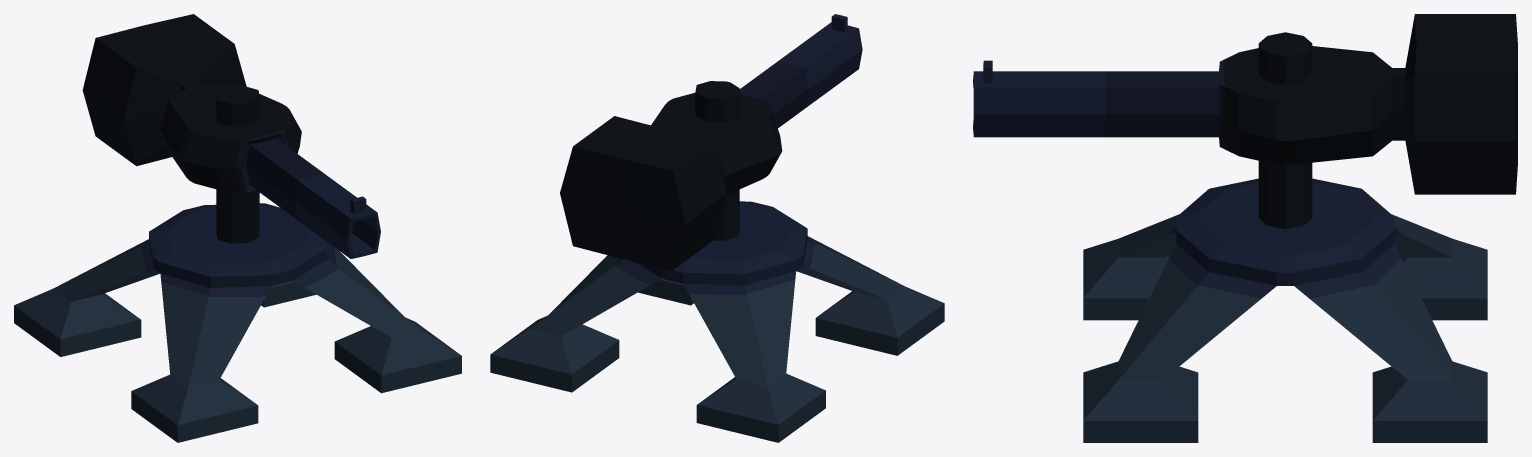
Rendered from DoomSlayer.fbx.
3 views of the same model, side by side, from view 1: azimuth 30°, elevation 25°; view 2: azimuth 150°, elevation 25°; view 3: azimuth 270°, elevation 25° (orthographic). The views are drawn at different scales.
Parts seen in each view (by area): view 1: Cube; view 2: Cube; view 3: Cube.
Boxes of the visible parts, <box> form: Cube: <box>14,14,461,442</box>; Cube: <box>490,14,944,442</box>; Cube: <box>973,14,1517,442</box>.
Size of the model in its own units: 1260 by 1077 by 1694.
Materials: 1 (1 with a texture image).
